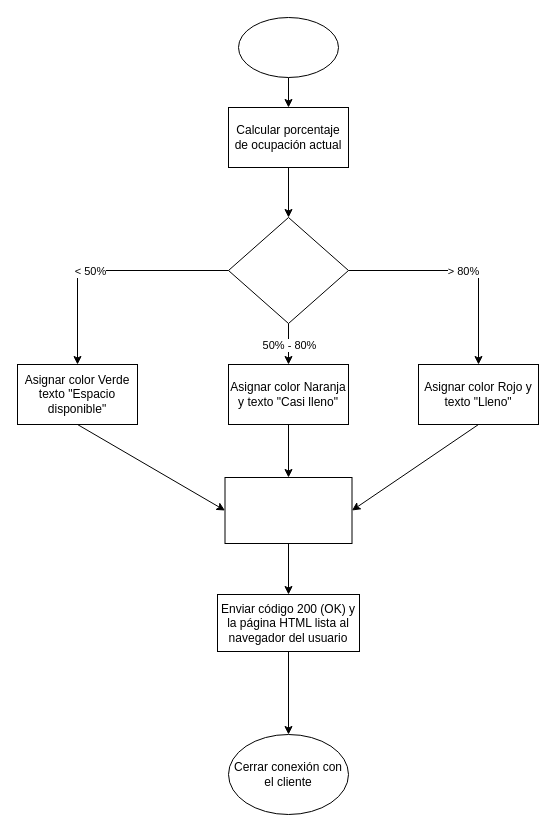
Some shapes in this 556 by 832 pixel diagram are drawn without their labels. The shapes that lost their labels are listed below. From the top down, each one's box as (x1, y1, x2, y2) in pixels, then its label:
(238, 16, 338, 78): Petición de web recibida
(228, 216, 348, 324): Evaluar el nivel de ocupación
(224, 476, 352, 544): Construir la estructura visual HTML
